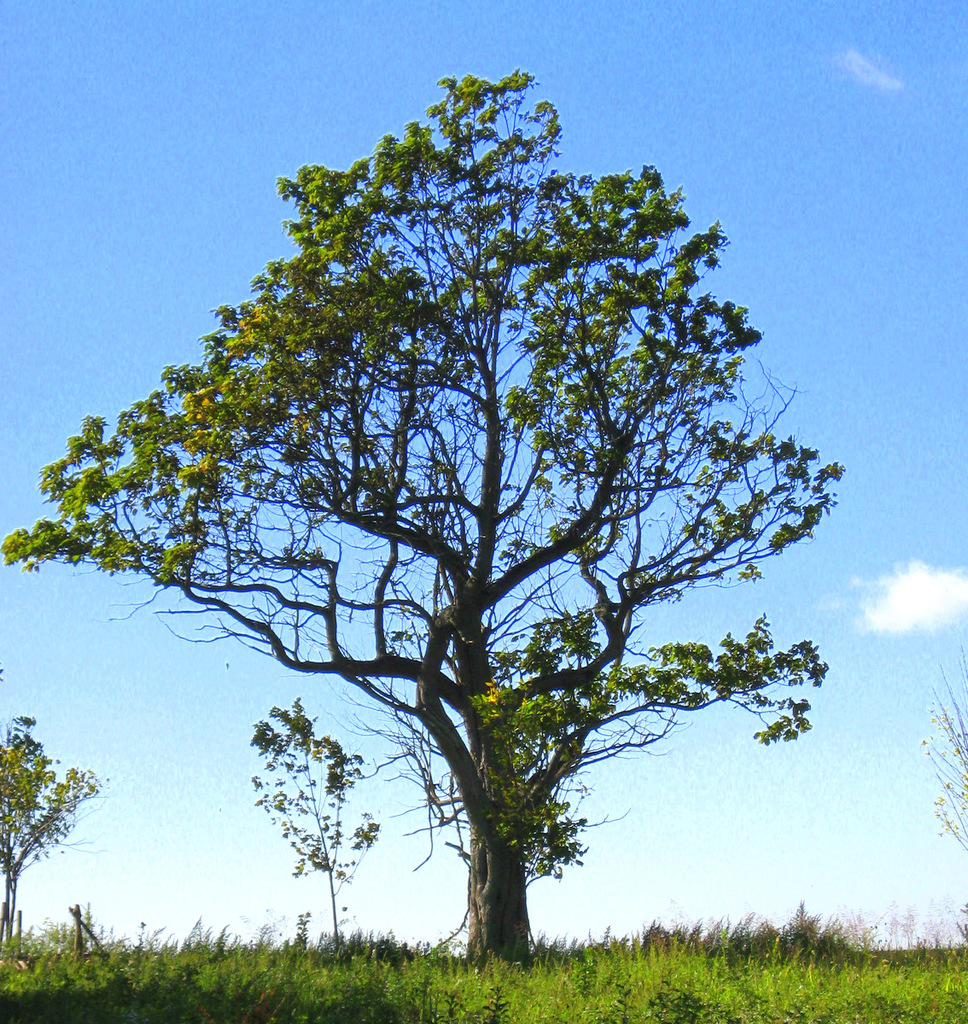Tree: (0, 66, 846, 969), (248, 699, 384, 956), (0, 717, 108, 969), (918, 638, 968, 857)
